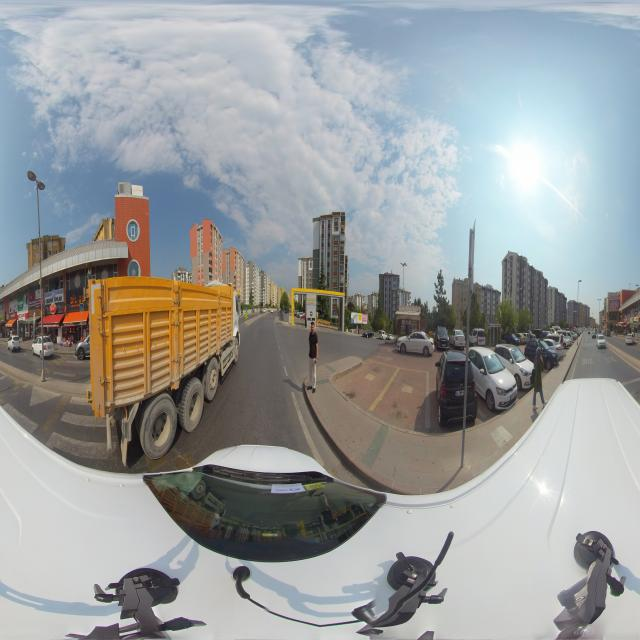SignStore: (65, 287, 84, 312), (47, 303, 62, 315), (30, 308, 40, 316), (18, 312, 28, 320), (9, 313, 17, 319), (0, 314, 4, 321), (6, 313, 9, 320)
